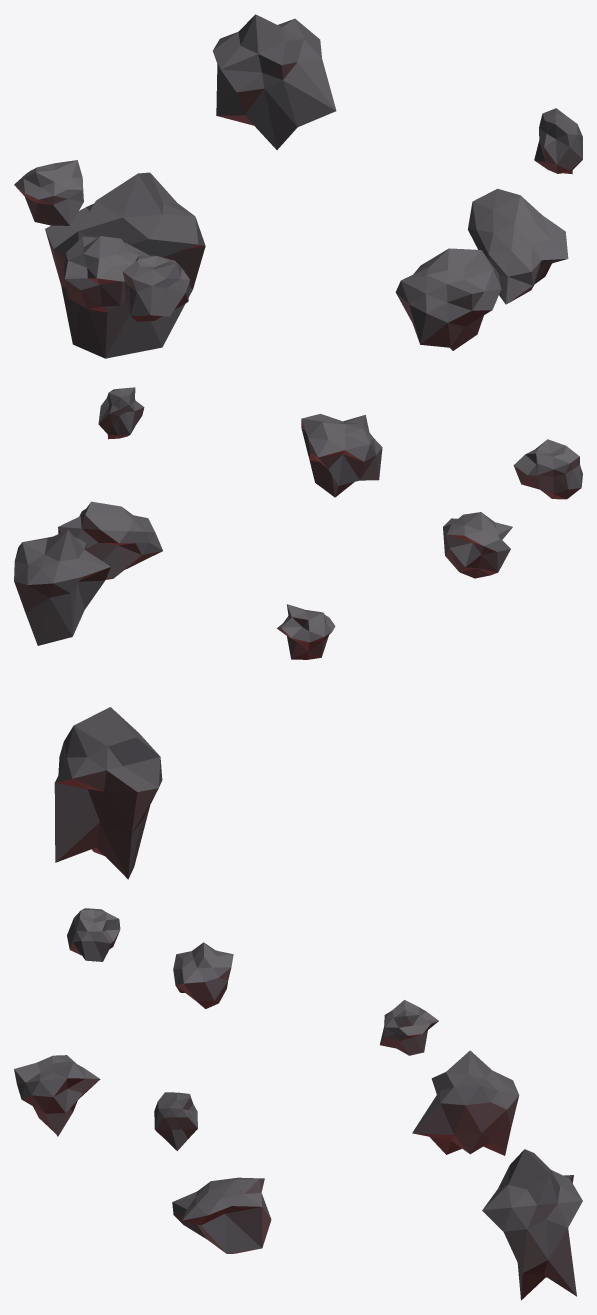
The model's file is floating_rocks.glb.
3 views of the same model, one above another, from view 1: azimuth 30°, elevation 25°; view 2: azimuth 150°, elevation 25°; view 3: azimuth 270°, elevation 25° (orthographic). The views are drawn at different scales.
Visible parts, largest first — view 1: floating_rock_07, floating_rock_08, floating_rock_03, floating_rock_01, floating_rock_05, floating_rock_04, floating_rock_06, floating_rock_02; view 2: floating_rock_07, floating_rock_08, floating_rock_03, floating_rock_01, floating_rock_05, floating_rock_04, floating_rock_06, floating_rock_02; view 3: floating_rock_07, floating_rock_08, floating_rock_01, floating_rock_03, floating_rock_05, floating_rock_04, floating_rock_06, floating_rock_02.
Boxes of the visible parts, <box> form: floating_rock_07: <box>45,172,205,358</box>; floating_rock_08: <box>213,14,336,149</box>; floating_rock_03: <box>395,248,501,350</box>; floating_rock_01: <box>468,188,568,304</box>; floating_rock_05: <box>63,236,149,312</box>; floating_rock_04: <box>123,255,190,321</box>; floating_rock_06: <box>14,160,83,225</box>; floating_rock_02: <box>534,108,582,174</box>; floating_rock_07: <box>54,707,162,879</box>; floating_rock_08: <box>14,530,110,645</box>; floating_rock_03: <box>301,414,382,497</box>; floating_rock_01: <box>58,501,162,579</box>; floating_rock_05: <box>443,512,512,578</box>; floating_rock_04: <box>513,439,582,499</box>; floating_rock_06: <box>277,604,335,659</box>; floating_rock_02: <box>98,387,144,439</box>; floating_rock_07: <box>482,1149,582,1300</box>; floating_rock_08: <box>412,1050,519,1155</box>; floating_rock_01: <box>172,1177,271,1253</box>; floating_rock_03: <box>14,1055,100,1136</box>; floating_rock_05: <box>173,942,233,1008</box>; floating_rock_04: <box>67,908,120,961</box>; floating_rock_06: <box>380,1000,438,1055</box>; floating_rock_02: <box>154,1092,197,1150</box>.
Bounding box in the file's own units: 8.78 × 5.75 × 10.51.
